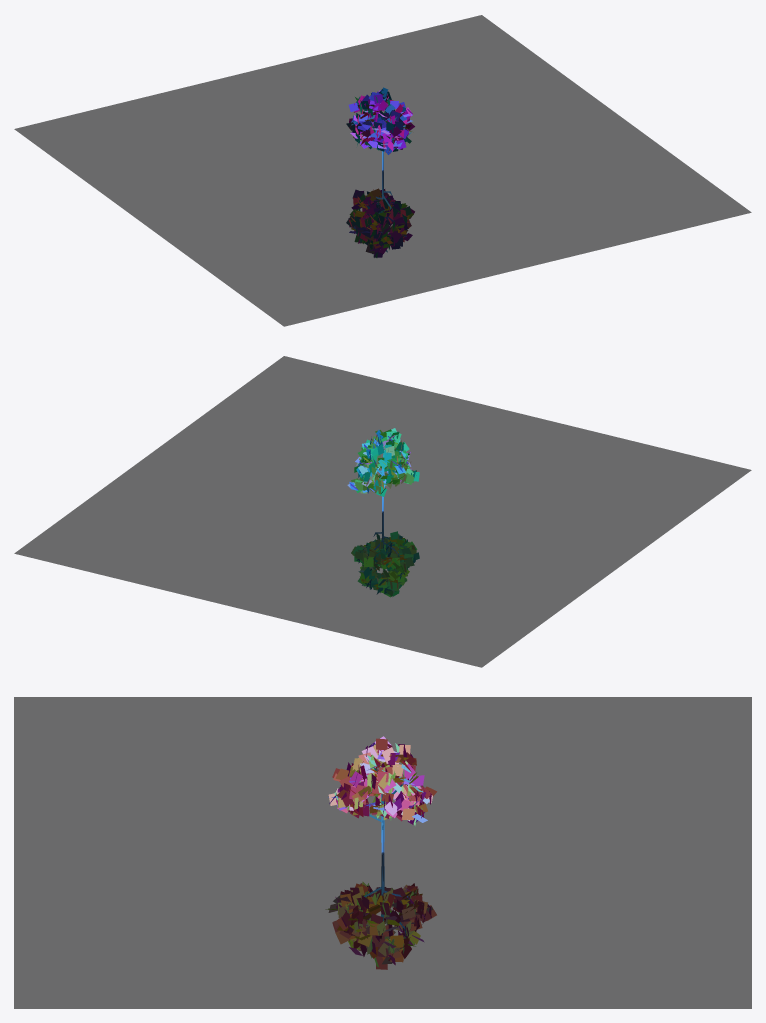
The model's file is normal.glb.
3 views of the same model, one above another, from view 1: azimuth 30°, elevation 25°; view 2: azimuth 150°, elevation 25°; view 3: azimuth 270°, elevation 25° (orthographic). The views are drawn at different scales.
Visible parts, largest first — view 1: floor, leaves_002; view 2: floor, leaves_002; view 3: floor, leaves_002.
Boxes of the visible parts, x1,y1,x2,y2 form: floor: (14,15,751,326); leaves_002: (346,87,414,257); floor: (14,356,751,667); leaves_002: (347,428,419,596); floor: (14,697,751,1008); leaves_002: (328,736,436,969).
Size of the model in its own units: 109 by 37.47 by 109.
